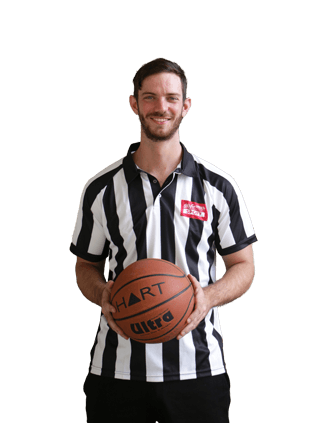ball: (105, 258, 198, 344)
player: (66, 59, 260, 423)
